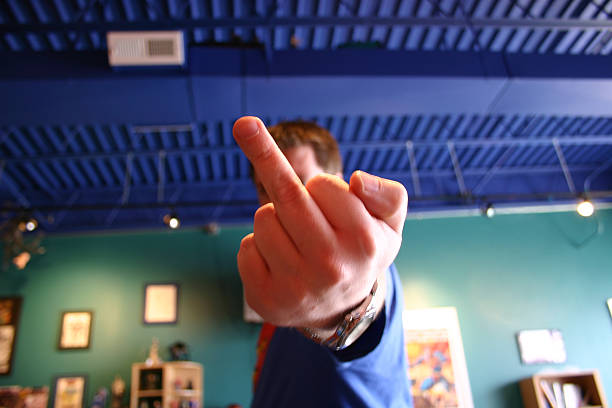insulting_gesture: (230, 115, 406, 323)
